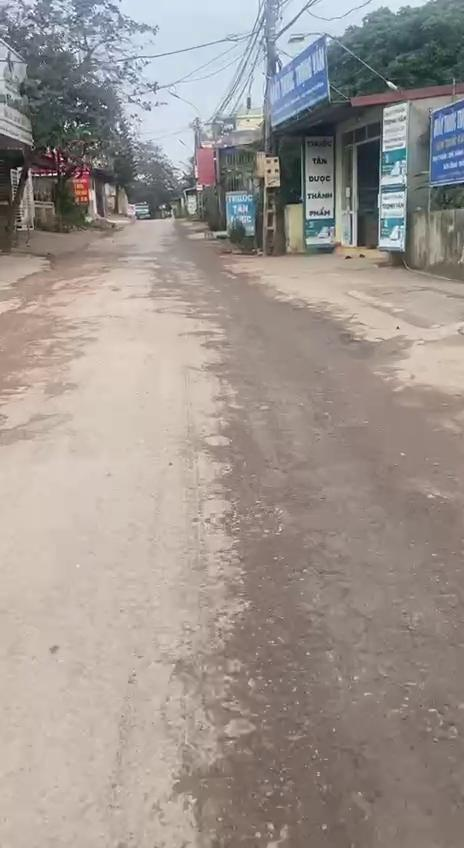pothole: (173, 707, 377, 848)
